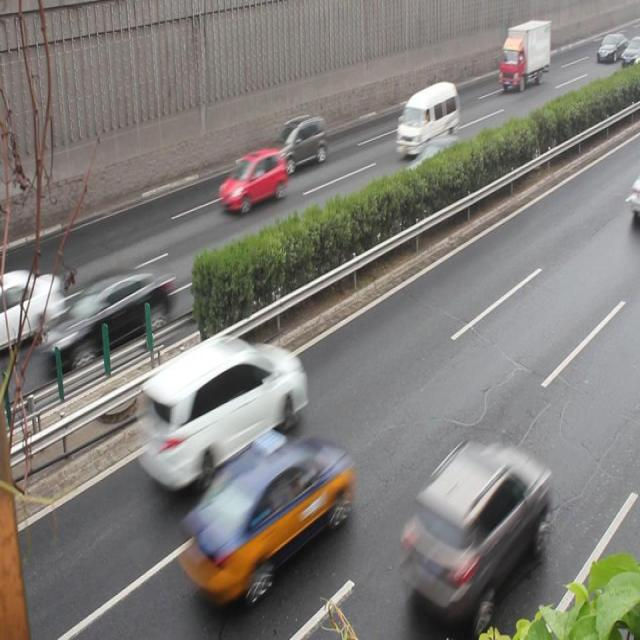bus: (498, 20, 551, 90)
car: (394, 434, 548, 618), (179, 433, 348, 600), (136, 334, 304, 490), (38, 270, 173, 379), (1, 270, 62, 345), (218, 147, 287, 213), (402, 137, 469, 198), (267, 114, 327, 175)
truck: (396, 80, 459, 155)
